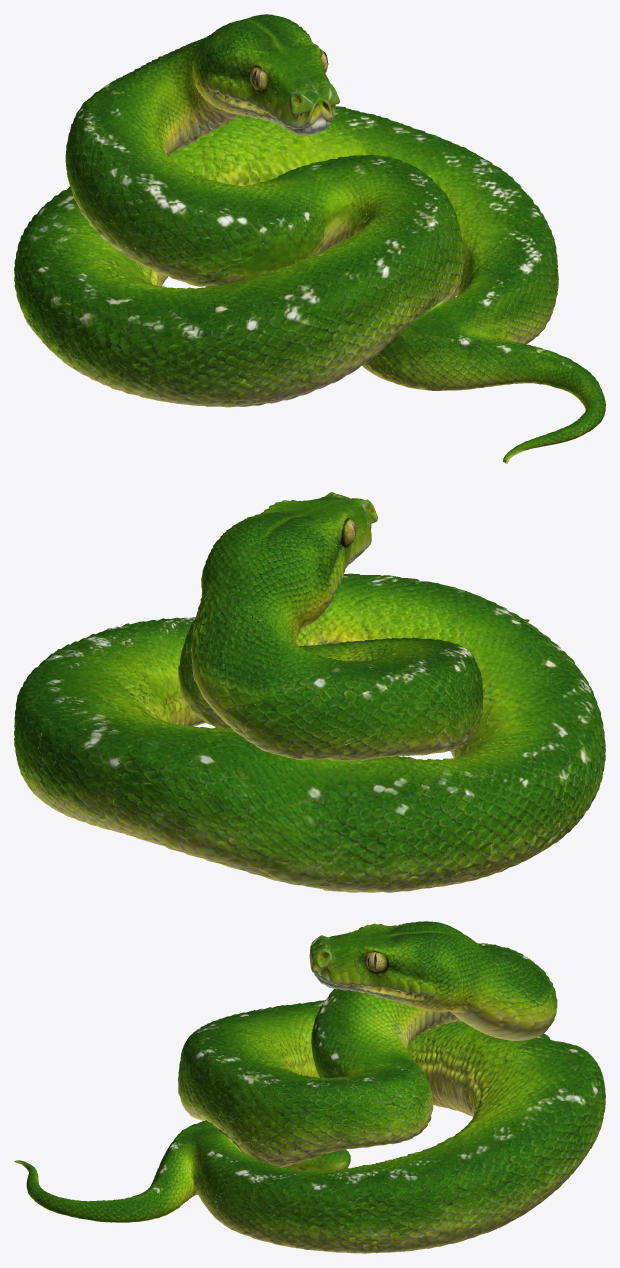
Rendered from python-living.glb.
The picture shows the model from 3 angles, top to bottom: view 1: azimuth 30°, elevation 25°; view 2: azimuth 150°, elevation 25°; view 3: azimuth 270°, elevation 25°; orthographic projection. The views are drawn at different scales.
Parts seen in each view (by area): view 1: python; view 2: python; view 3: python.
Part boxes in pixels (box(x1,y1,x2,y2)): python: box(14, 14, 605, 463); python: box(14, 492, 605, 892); python: box(14, 921, 605, 1253).
Size of the model in its own units: 0.8037 by 0.4312 by 1.
1 material, 1 textured.
